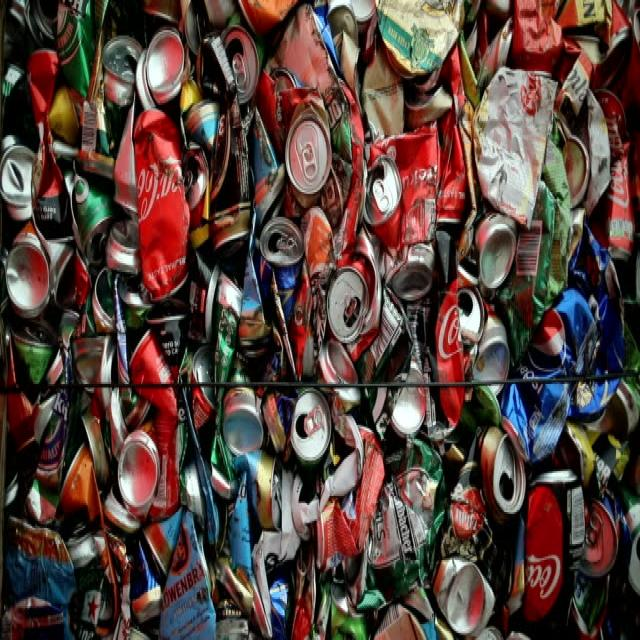metal: (35, 67, 546, 569)
